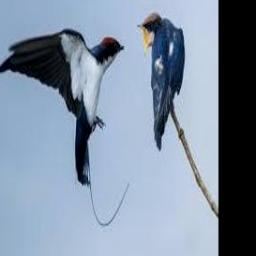Swallow: (0, 27, 125, 185), (138, 11, 185, 149)
